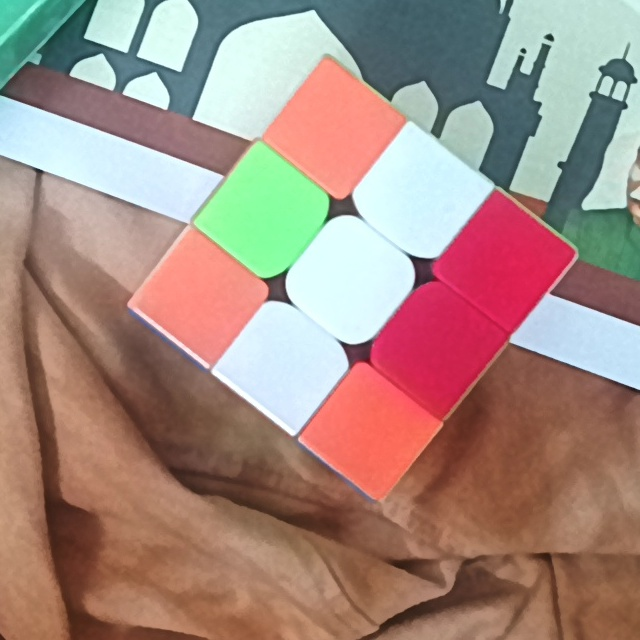tile: (330, 394, 409, 464), (469, 224, 543, 297), (313, 243, 388, 315), (164, 261, 239, 330), (296, 97, 375, 162), (400, 309, 474, 378), (227, 180, 303, 247), (247, 331, 319, 400), (386, 159, 457, 228)
